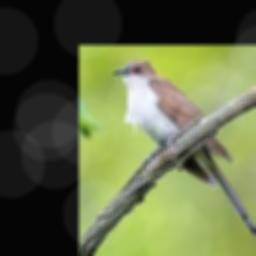Cuckoo: (113, 58, 256, 242)
